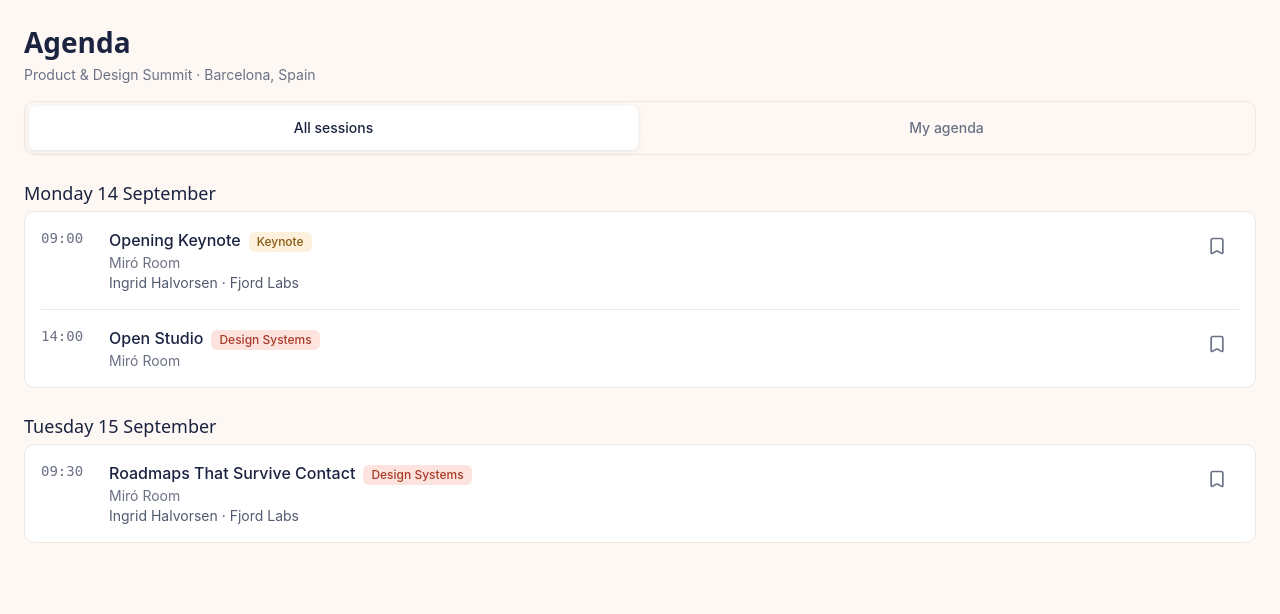
Scenario: a failed note write › offers a retry that writes again immediately (FR-211)
Click the link "Opening Keynote": {"x": 175, "y": 240} left=109, top=230, right=241, bottom=250
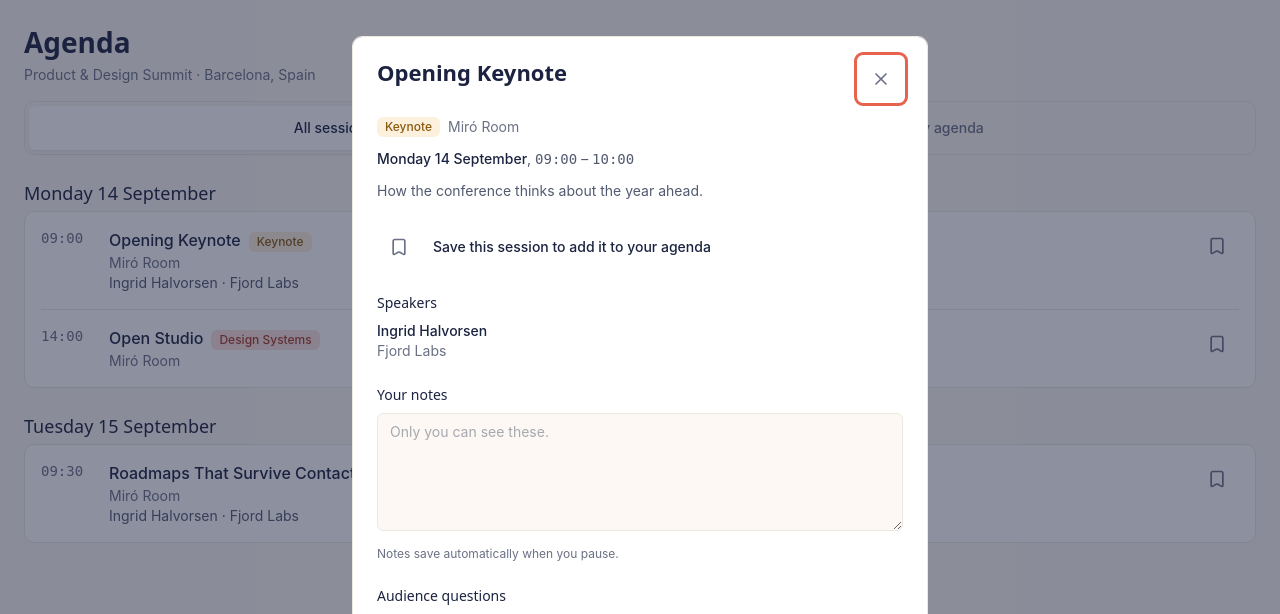
Check: the heading "Opening Keynote" is shown, box left=377, top=57, right=567, bottom=88
In the text box named "private notes": {"x": 640, "y": 472} left=377, top=413, right=903, bottom=531, type "Something worth keeping."
Wait 1300 ms
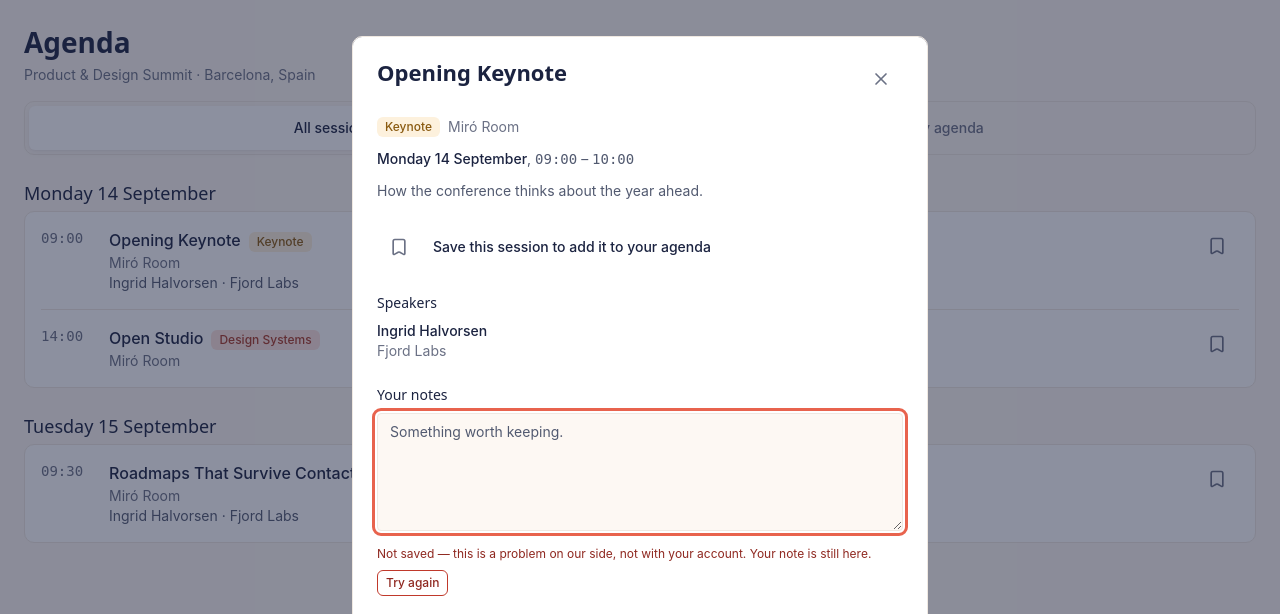
Check: the message is shown, box left=377, top=546, right=903, bottom=596
Click the button "Try again": {"x": 413, "y": 583} left=377, top=570, right=448, bottom=596
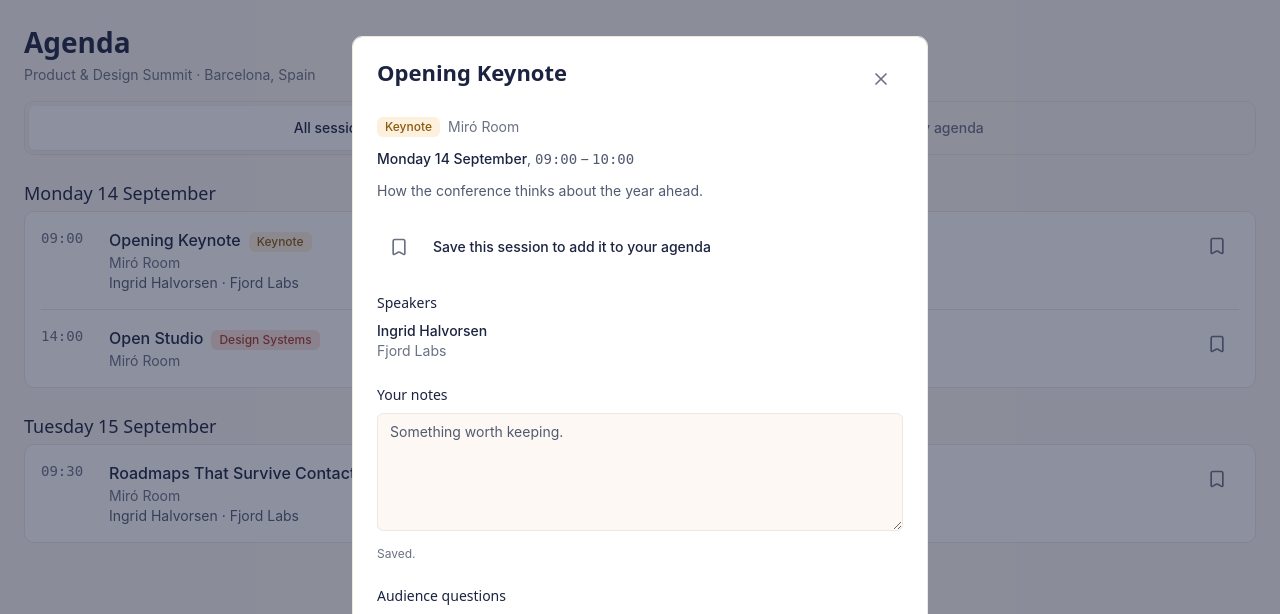
Check: the message reads "Saved.", box left=377, top=546, right=416, bottom=561
